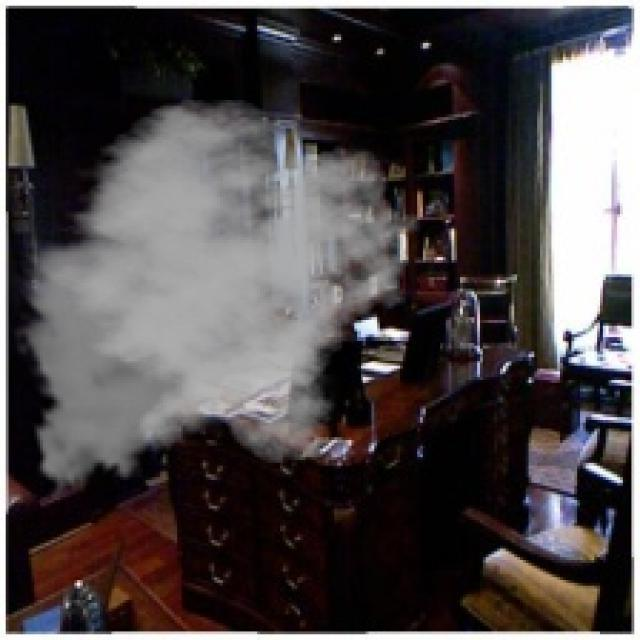Smoke: (11, 97, 423, 506)
